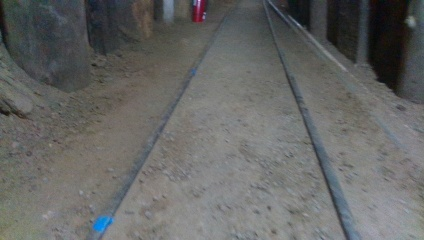fire_extinguisher: (189, 0, 206, 23)
